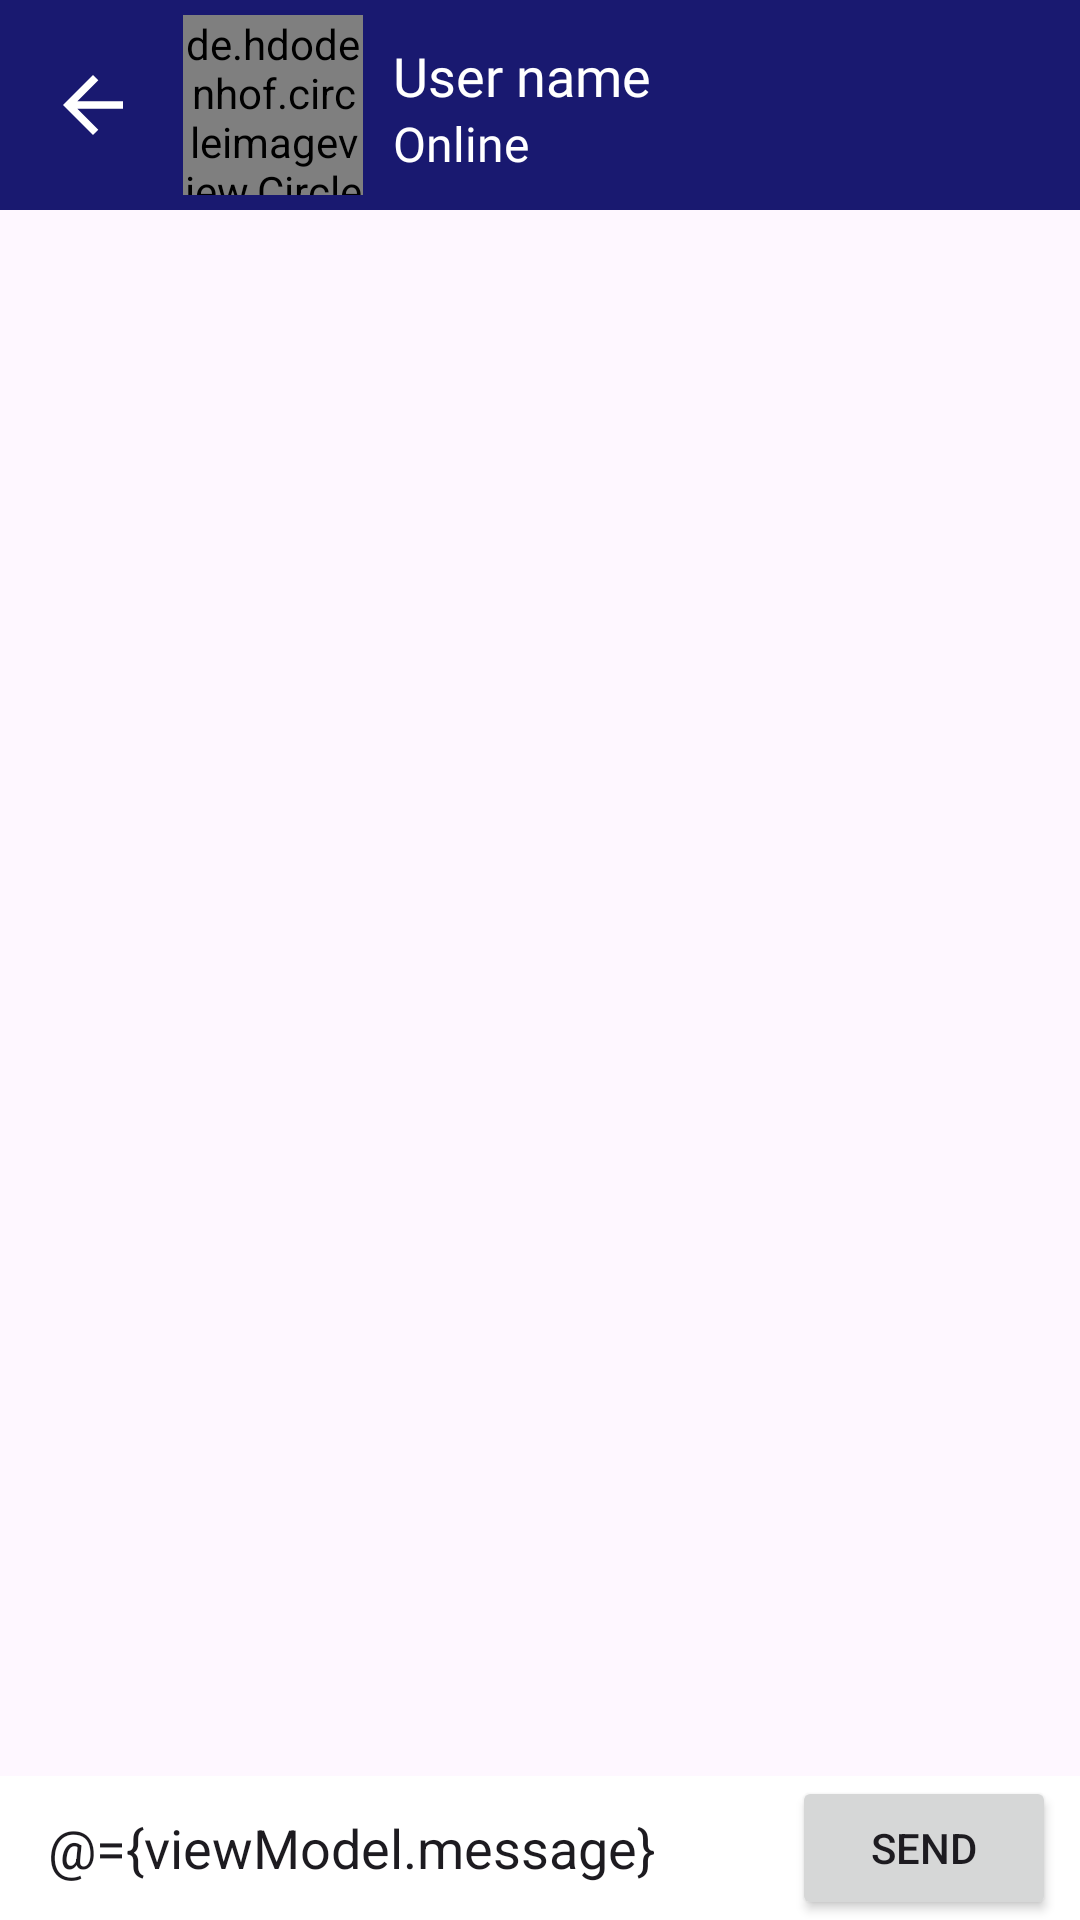

Icons on this 1080*1920 Android screen, each with its box as (x1, y1, x2, y2):
back: (63, 75, 123, 135)
